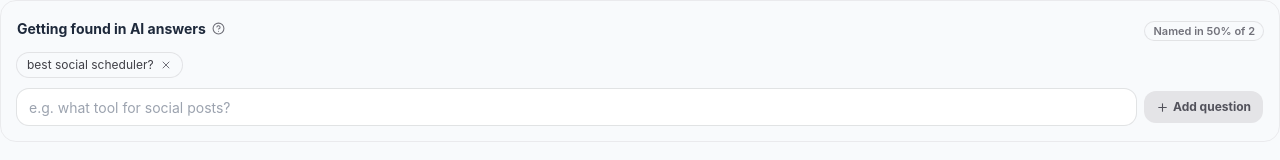
Test: RadarGeo (GEO buying-questions editor) › does not add a blank or duplicate question
Type "best social scheduler?" into the field named "add question" at (576, 107), box [17, 89, 1136, 125]
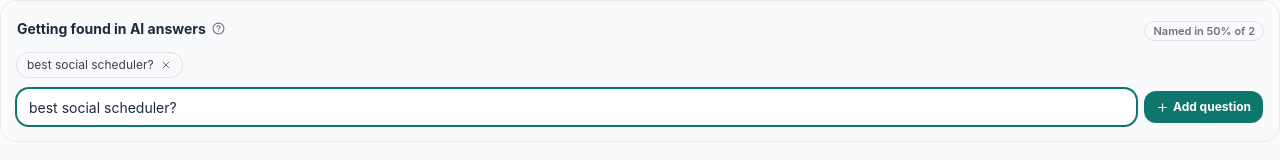
Click the button "Add question" at (1204, 107), box [1144, 91, 1263, 123]
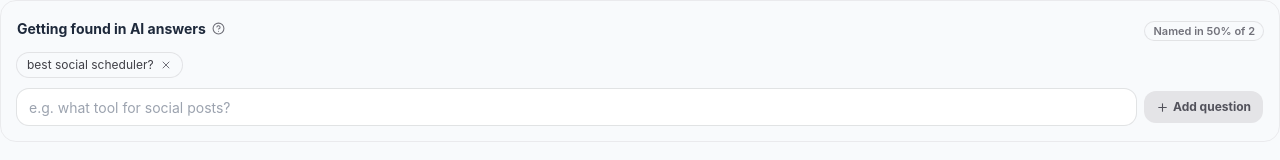
Now the button "Add question" is disabled, box [1144, 91, 1263, 123]
